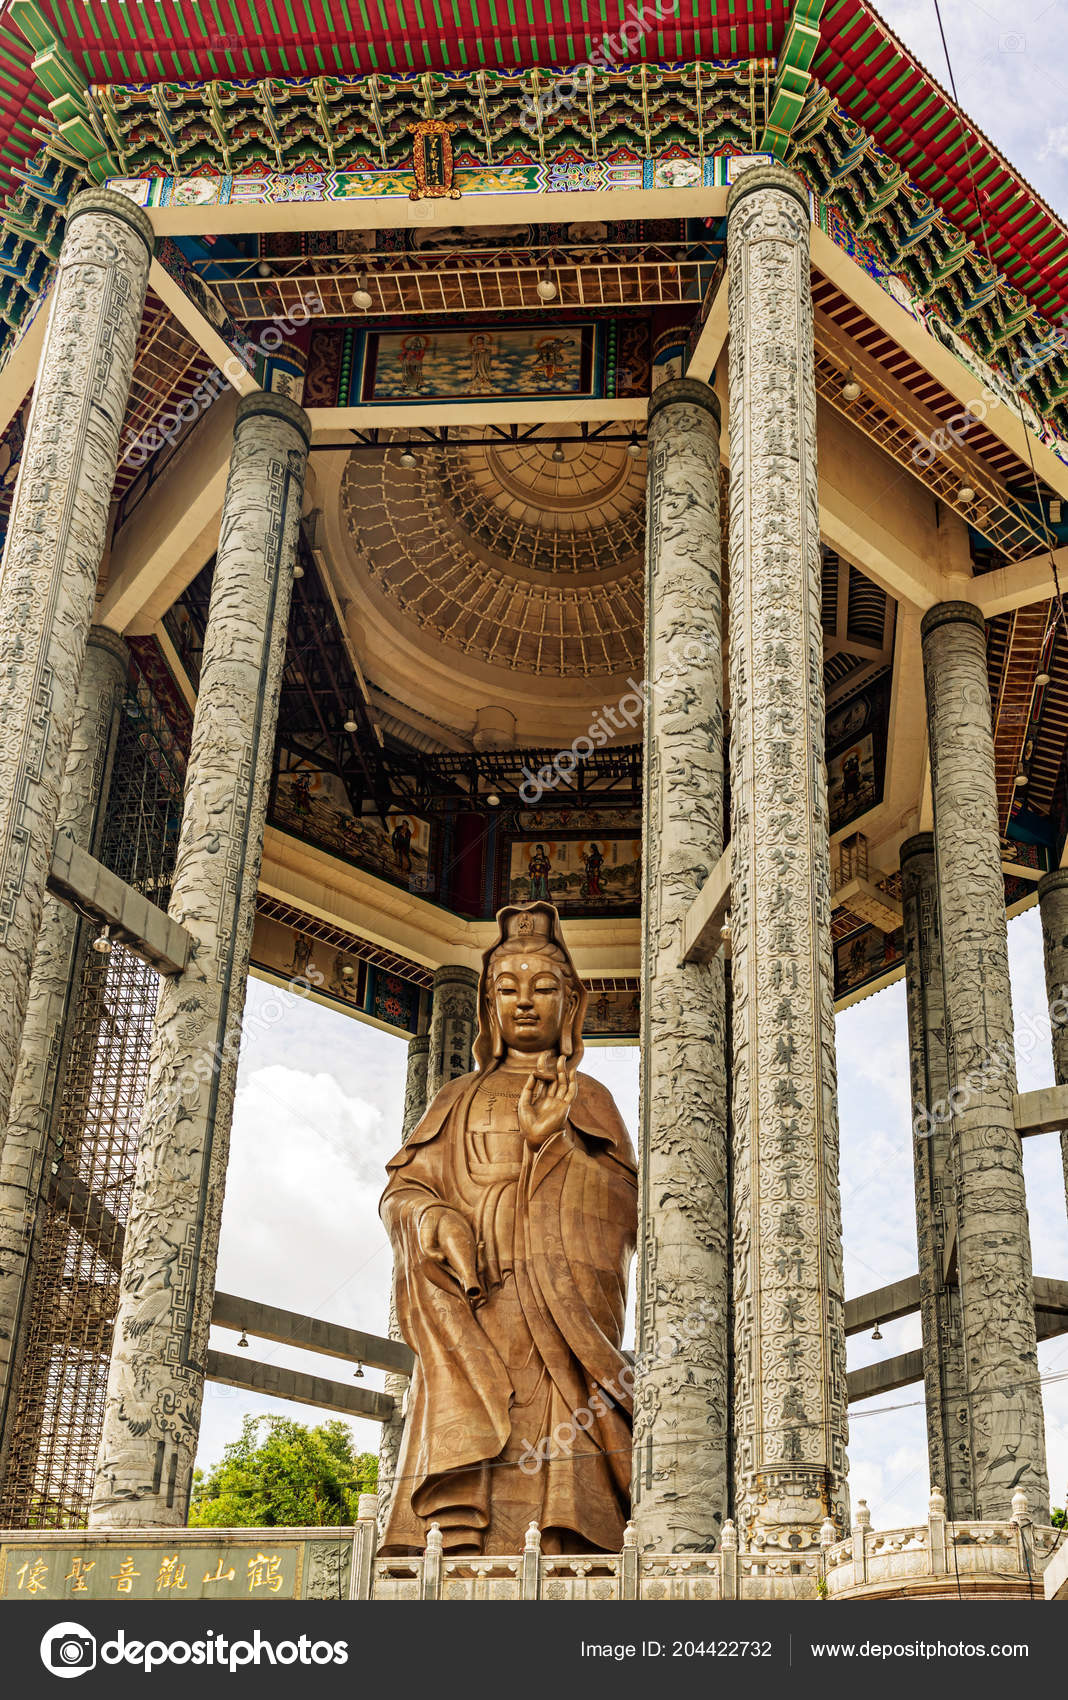Buddhist Temple: (25, 37, 1064, 1552)
